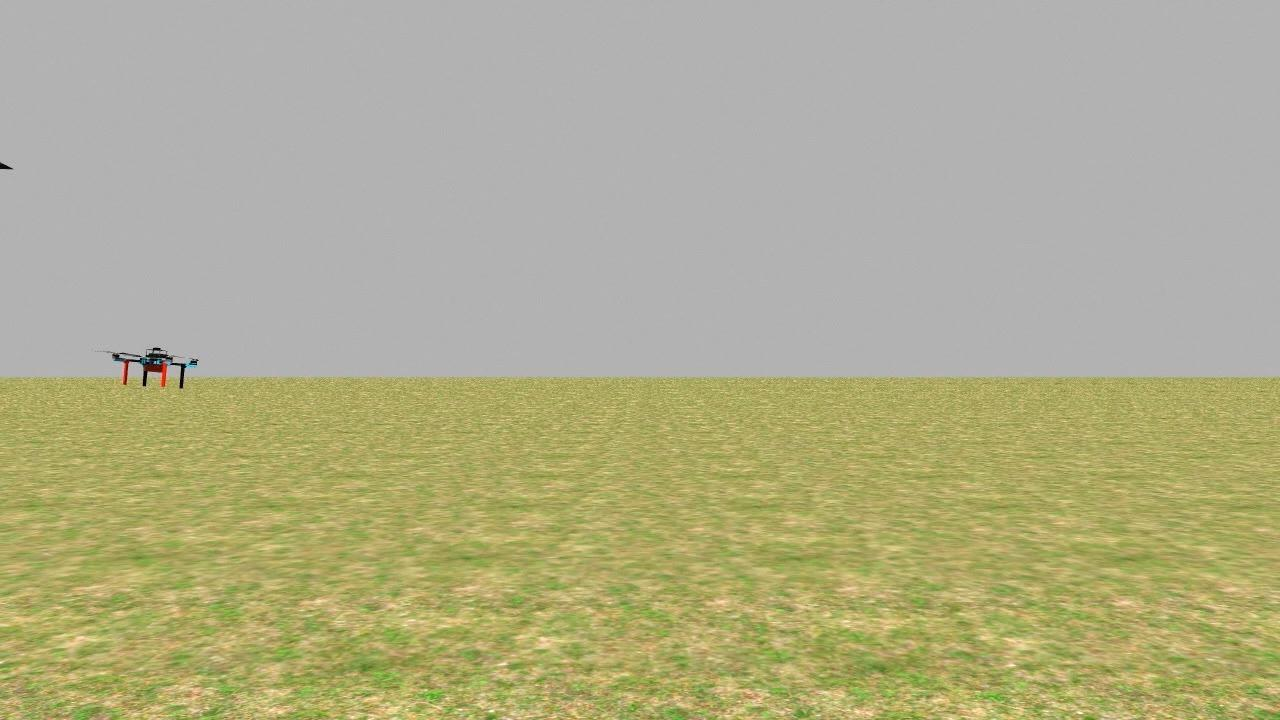UAV: (108, 341, 196, 396)
